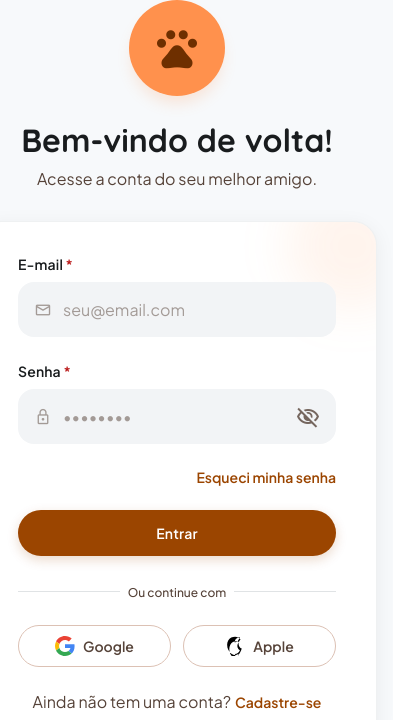
Test case: LoginForm Component › should validate empty fields on submit
Click the button "Entrar": (177, 533) [18,510,336,556]
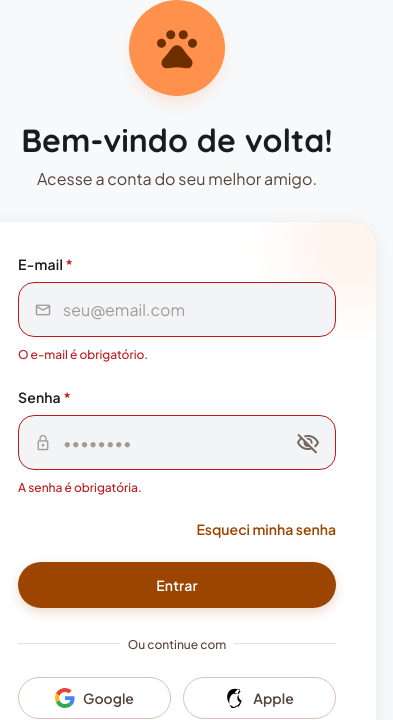
Check: the text "O e-mail é obrigatório." is shown, box [18,347,148,362]
Check: the text "A senha é obrigatória." is shown, box [18,480,142,495]
